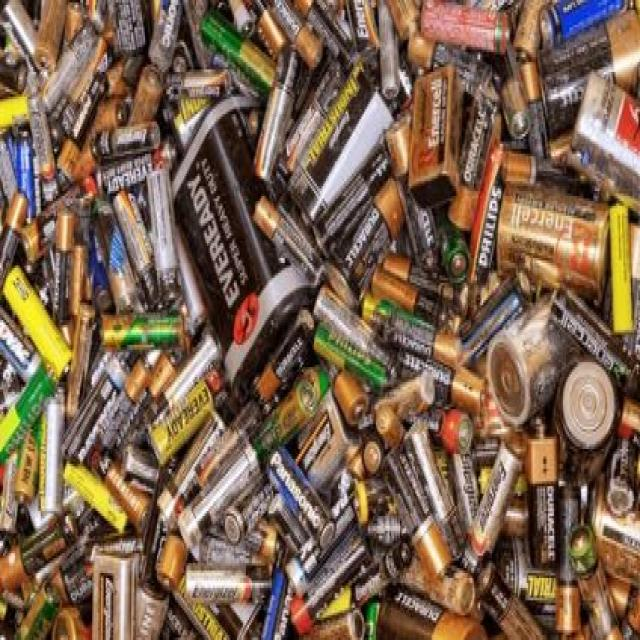electronic: (96, 302, 197, 374)
